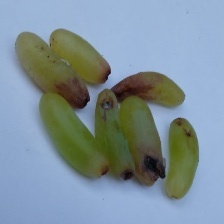grapes: (18, 7, 169, 196)
